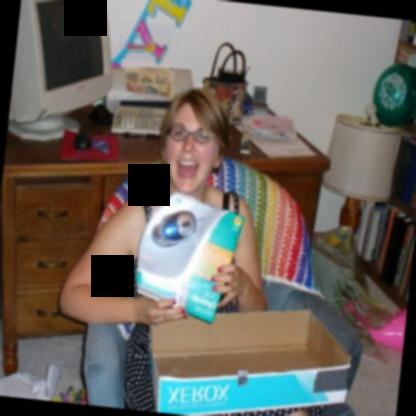handbag: (203, 41, 248, 124)
